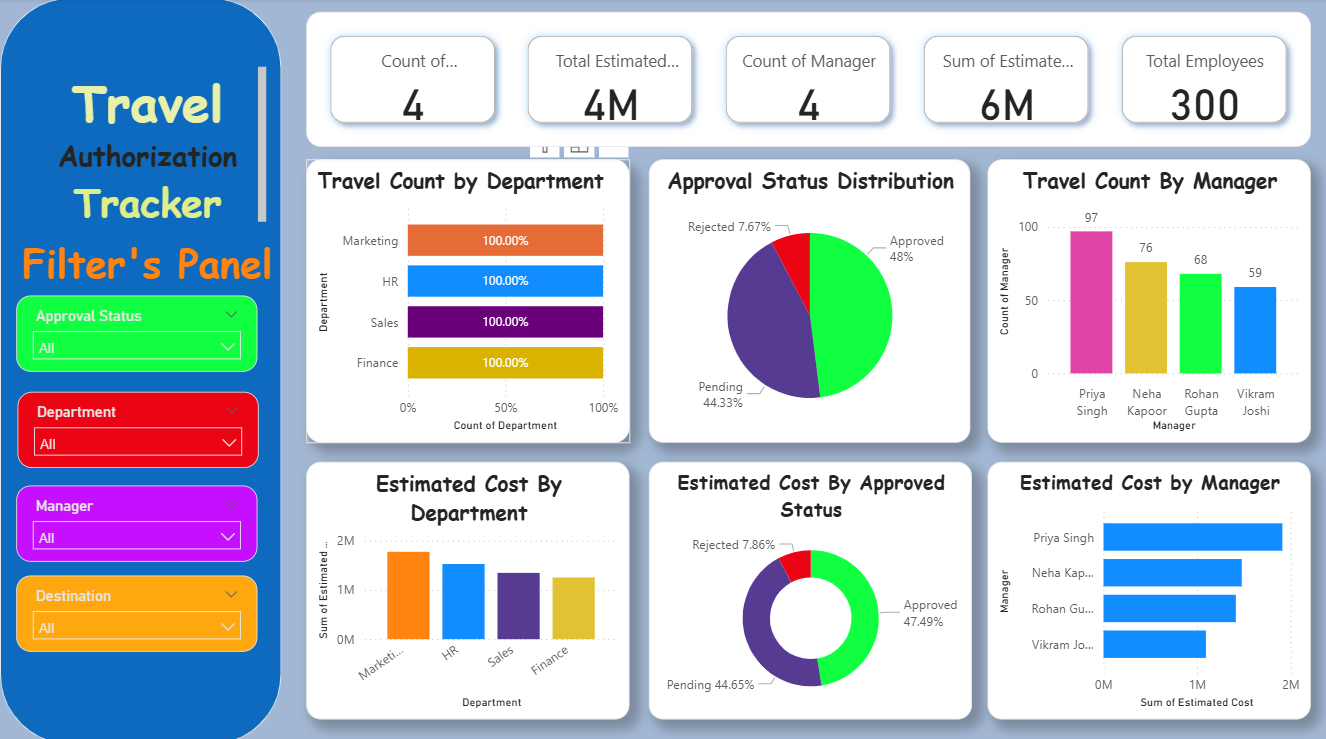

Layout of this report page (visuals, bound fields, positions):
{"tool":"powerbi","page":{"name":"Page 1","canvas":[1280,720],"ordinal":0},"visuals":[{"type":"shape","box":[0,0,271.6,720.6],"z":0},{"type":"hundredPercentStackedBarChart","title":" Travel  Count by Department","fields":{"Category":["TravelData.Department"],"Y":["TravelData.Department"]},"box":[296,156.1,312.3,273.3],"z":1000},{"type":"pieChart","title":" Approval Status Distribution","fields":{"Category":["TravelData.Approval Status"],"Y":["TravelData.Approval Status"]},"box":[626.2,156.1,310.7,273.3],"z":2000},{"type":"columnChart","title":"Travel Count By Manager","fields":{"Category":["TravelData.Manager"],"Y":["TravelData.Manager"]},"box":[953.2,156.1,312.3,273.3],"z":3000},{"type":"columnChart","title":"Estimated Cost By Department","fields":{"Category":["TravelData.Department"],"Y":["TravelData.Estimated Cost"]},"box":[296,447.3,312.3,248.9],"z":4000},{"type":"donutChart","title":"Estimated Cost By Approved Status","fields":{"Category":["TravelData.Approval Status"],"Y":["TravelData.Estimated Cost"]},"box":[626.2,447.3,312.3,248.9],"z":5000},{"type":"barChart","title":"Estimated Cost by Manager","fields":{"Category":["TravelData.Manager"],"Y":["TravelData.Estimated Cost"]},"box":[953.2,447.3,312.3,248.9],"z":6000},{"type":"cardVisual","fields":{"Data":["TravelData.Department","TravelData.Advance Required","TravelData.Manager","TravelData.Estimated Cost","TravelData.Employee ID"]},"box":[296,13,969.4,130.1],"z":7000},{"type":"textbox","box":[30.9,61.8,231,162.7],"z":8000},{"type":"textbox","box":[0,224.5,284.6,61.8],"z":9000},{"type":"slicer","fields":{"Values":["TravelData.Approval Status"]},"box":[15.1,287.2,232.4,73.7],"z":10000},{"type":"slicer","fields":{"Values":["TravelData.Department"]},"box":[17,379.8,232.4,73.7],"z":11000},{"type":"slicer","fields":{"Values":["TravelData.Manager"]},"box":[15.1,470.6,232.4,73.7],"z":12000},{"type":"slicer","fields":{"Values":["TravelData.Destination"]},"box":[15.1,557.5,232.4,73.7],"z":13000}]}

Visuals, with their boxes in screenshot pixels (x1, y1, x2, y2), scaled from the page's 1280x720 canvas onto the 1326x739 screenshot:
shape: 0,0,281,738
" Travel  Count by Department" hundredPercentStackedBarChart: 307,160,630,441
" Approval Status Distribution" pieChart: 649,160,971,441
"Travel Count By Manager" columnChart: 987,160,1311,441
"Estimated Cost By Department" columnChart: 307,459,630,715
"Estimated Cost By Approved Status" donutChart: 649,459,972,715
"Estimated Cost by Manager" barChart: 987,459,1311,715
cardVisual - TravelData.Department x TravelData.Advance Required: 307,13,1311,147
textbox: 32,63,271,230
textbox: 0,230,295,294
slicer - TravelData.Approval Status: 16,295,256,370
slicer - TravelData.Department: 18,390,258,465
slicer - TravelData.Manager: 16,483,256,559
slicer - TravelData.Destination: 16,572,256,648
